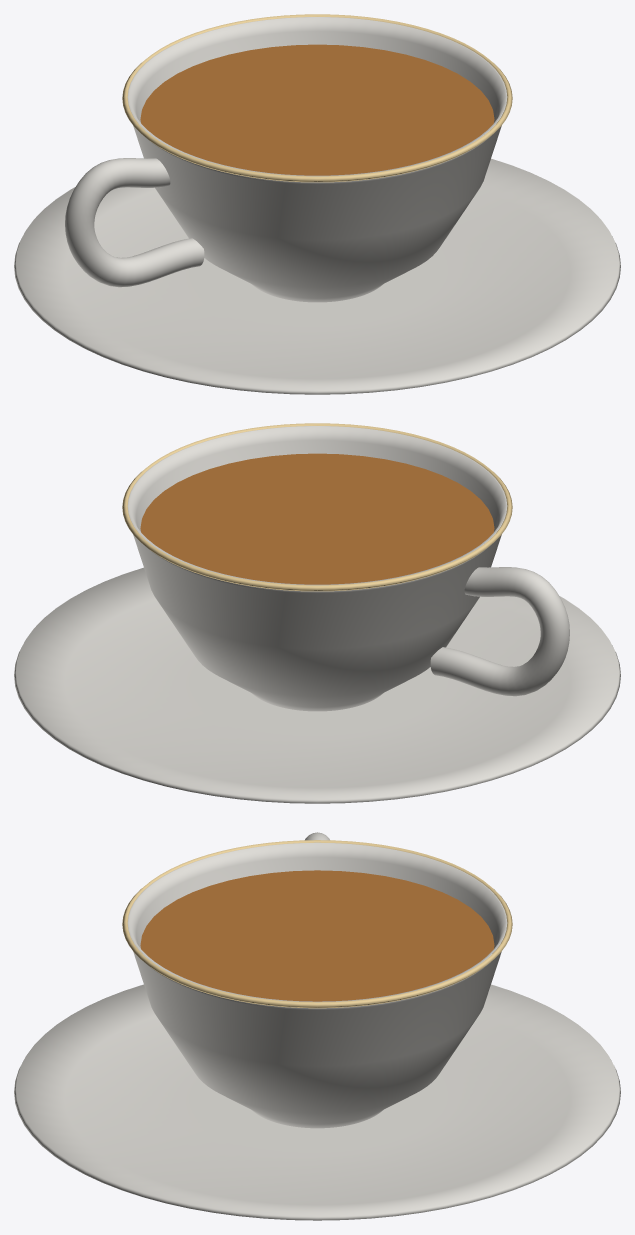
Rendered from cup.glb.
3 views of the same model, one above another, from view 1: azimuth 30°, elevation 25°; view 2: azimuth 150°, elevation 25°; view 3: azimuth 270°, elevation 25° (orthographic).
Visible parts, largest first — view 1: Saucer, Cup, Tea, CupHandle, CupRim; view 2: Saucer, Cup, Tea, CupHandle, CupRim; view 3: Saucer, Cup, Tea, CupRim.
Boxes of the visible parts, x1,y1,x2,y2 form: Saucer: (14, 158, 620, 394); Cup: (127, 17, 507, 302); Tea: (140, 44, 494, 175); CupHandle: (65, 158, 204, 287); CupRim: (122, 14, 512, 182); Saucer: (14, 567, 620, 803); Cup: (127, 426, 507, 711); Tea: (140, 453, 494, 584); CupHandle: (430, 567, 569, 696); CupRim: (122, 423, 512, 591); Saucer: (14, 984, 620, 1220); Cup: (127, 842, 507, 1128); Tea: (140, 870, 494, 1001); CupRim: (122, 840, 512, 1008).
Bounding box in the file's own units: 1.44 × 0.523 × 1.44.
